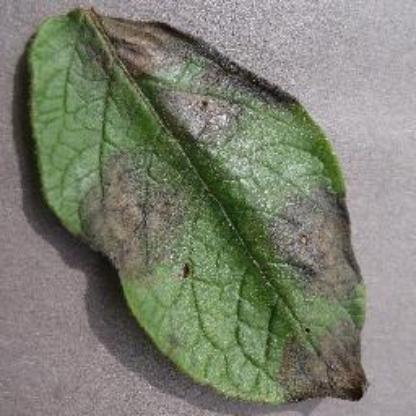Late-Blight: (19, 3, 387, 410)
